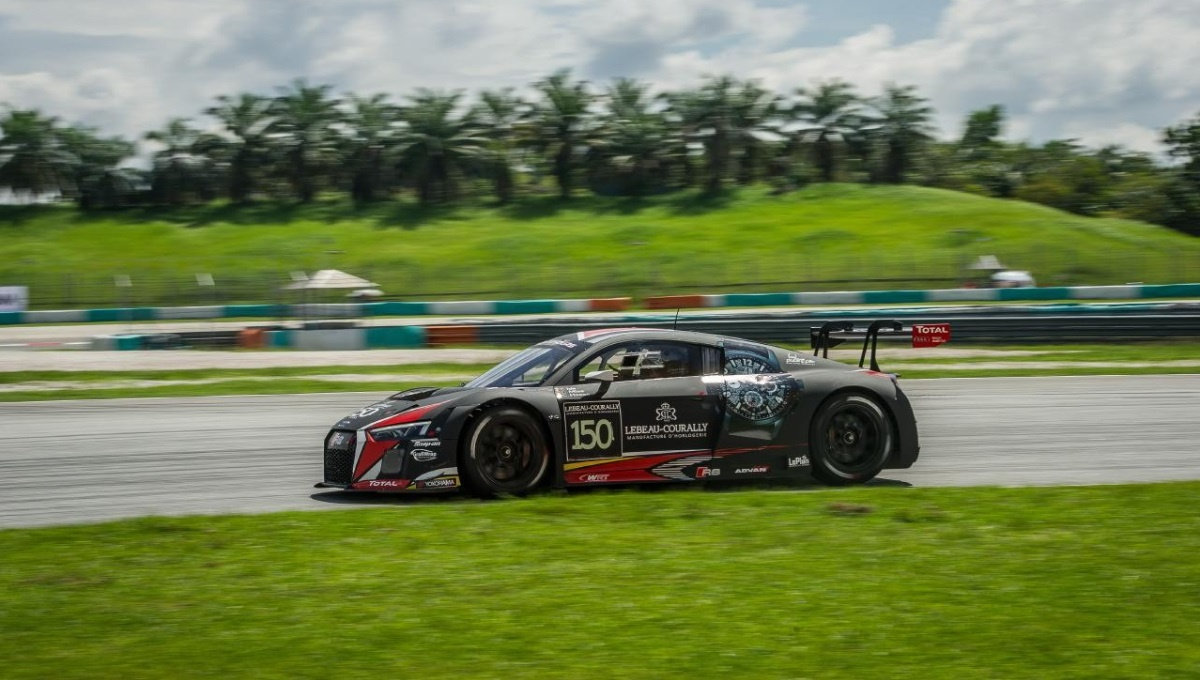racing car: (318, 316, 952, 511)
